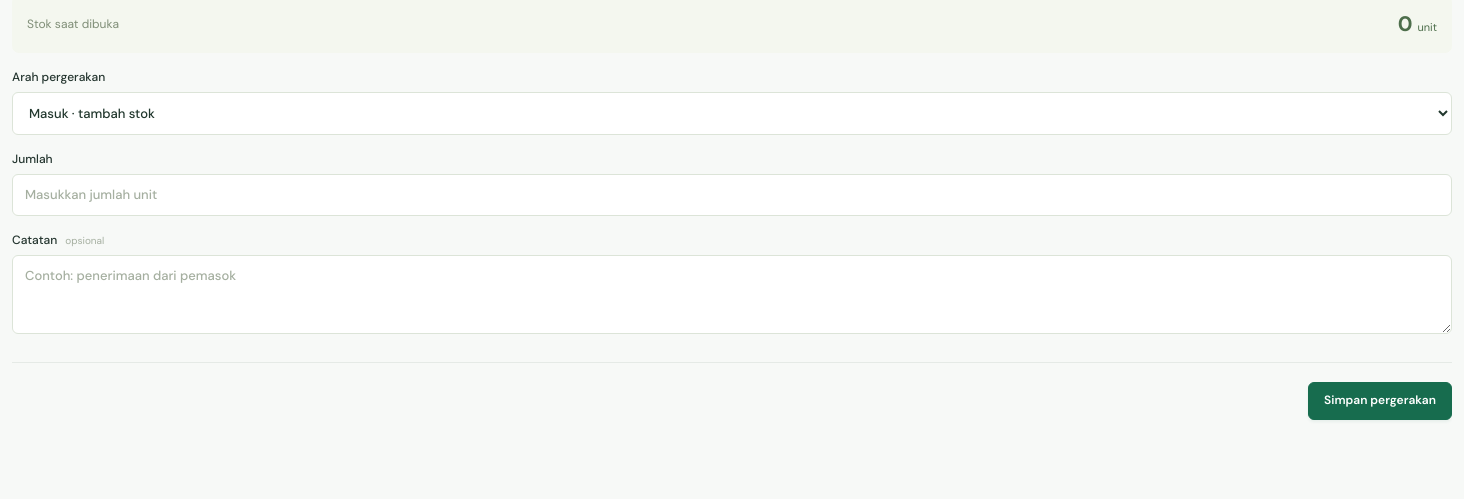
Test: shows the backend available quantity inside the adjustment form
Select "Keluar · kurangi stok" in the dropdown labelled "Arah pergerakan" at (732, 114), box [12,92,1452,135]
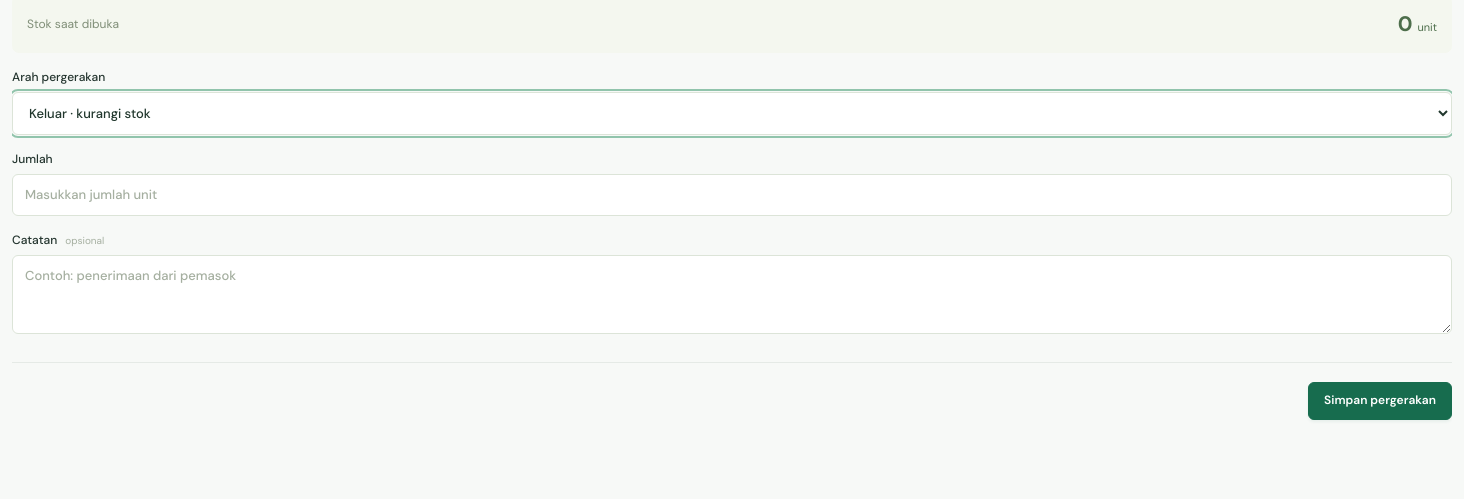
Type "1" into the field labelled "Jumlah".
click(732, 195); type("1")  # box [12,174,1452,216]
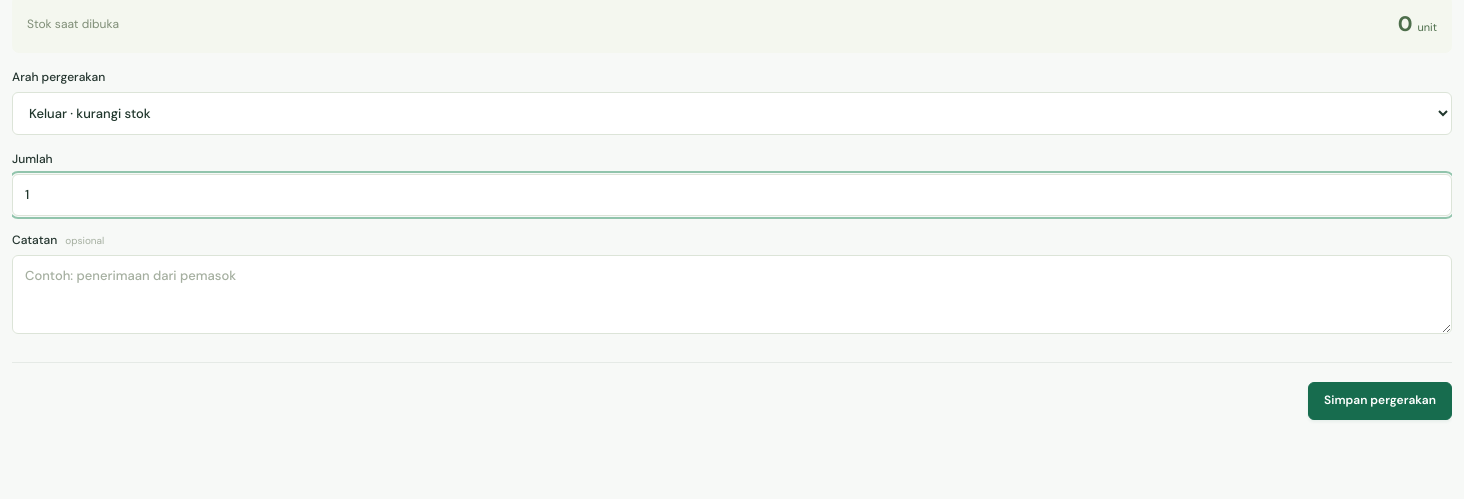
Click the button "Simpan pergerakan".
click(1380, 401)  # box [1308,382,1452,420]
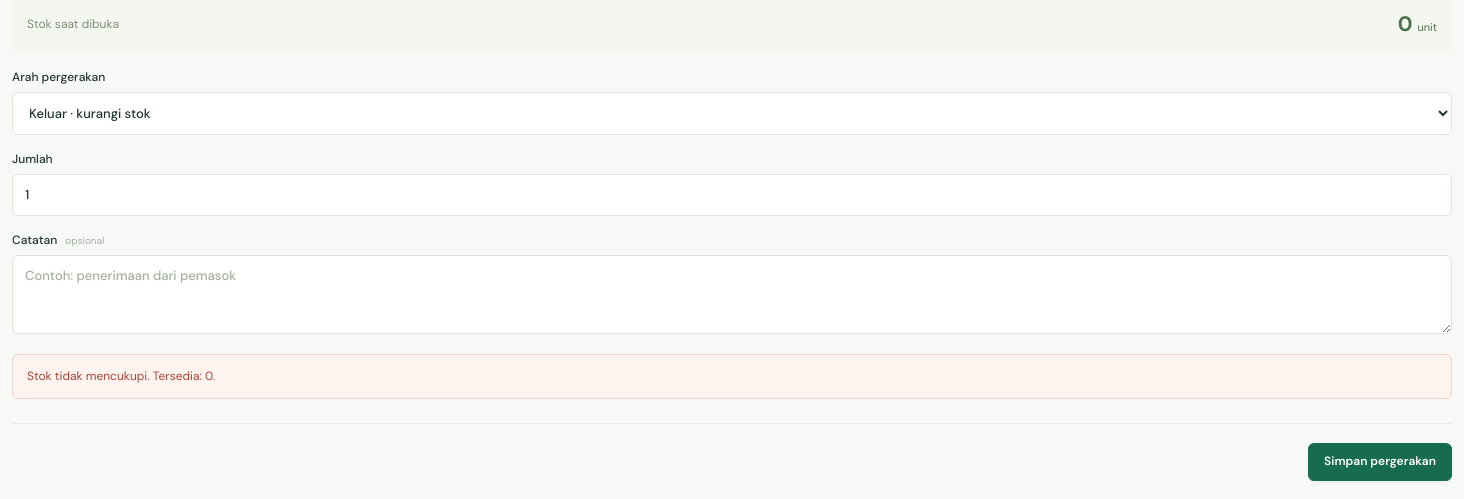
expect the text "Stok tidak mencukupi. Tersedia: 0." is shown: met, box [27,367,215,386]
